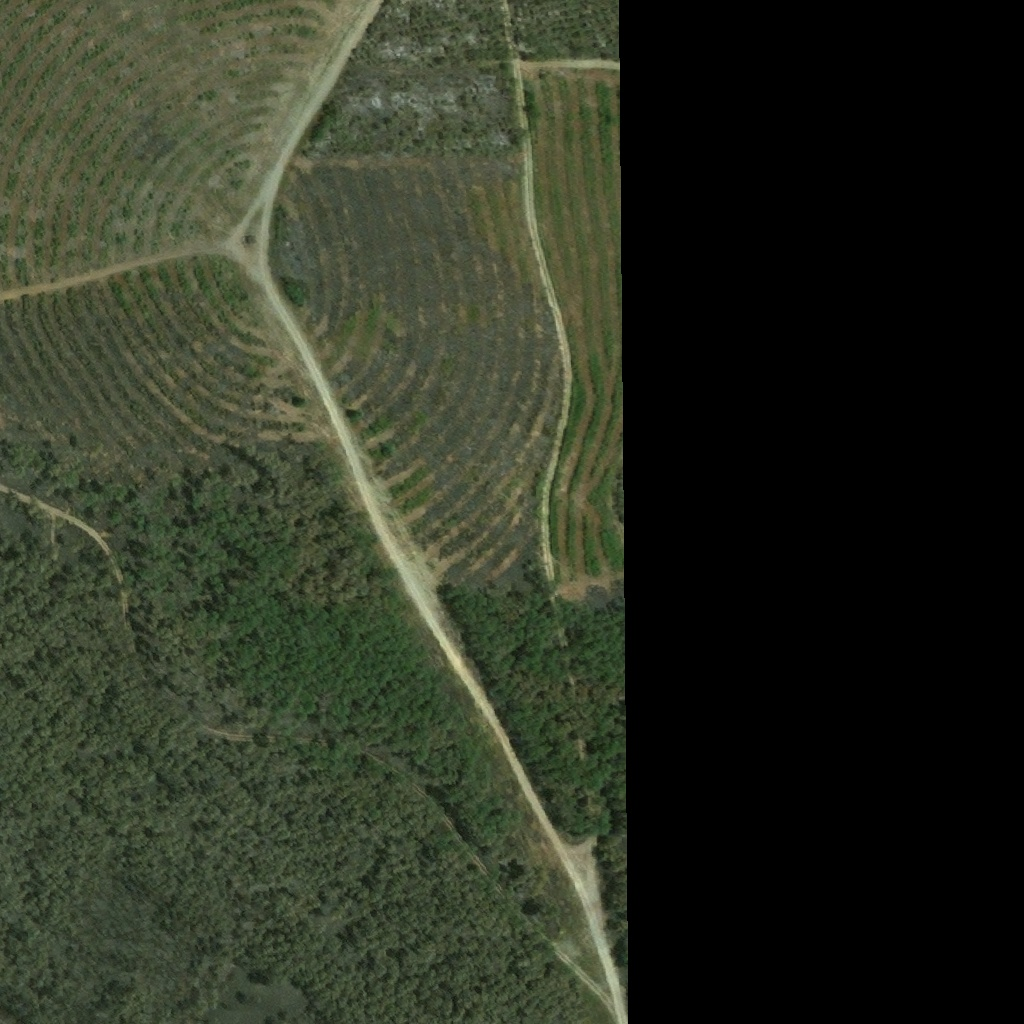0 no-damage: (244, 237, 255, 247)
